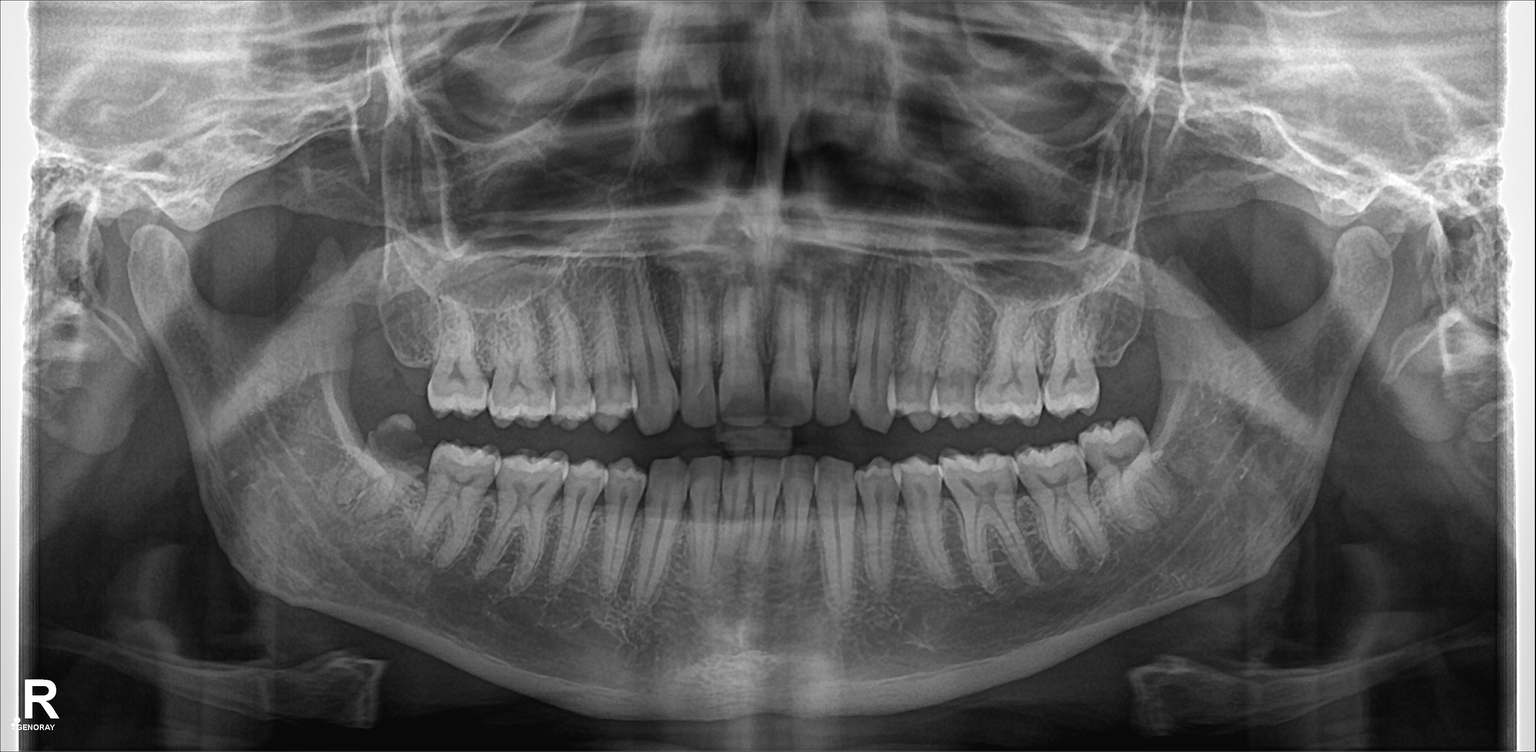Dental Caries: (367, 428, 426, 471)
Impacted Third Molar: (352, 417, 439, 521)
Missing Tooth: (1091, 285, 1149, 398), (358, 300, 402, 411), (397, 298, 437, 408)
